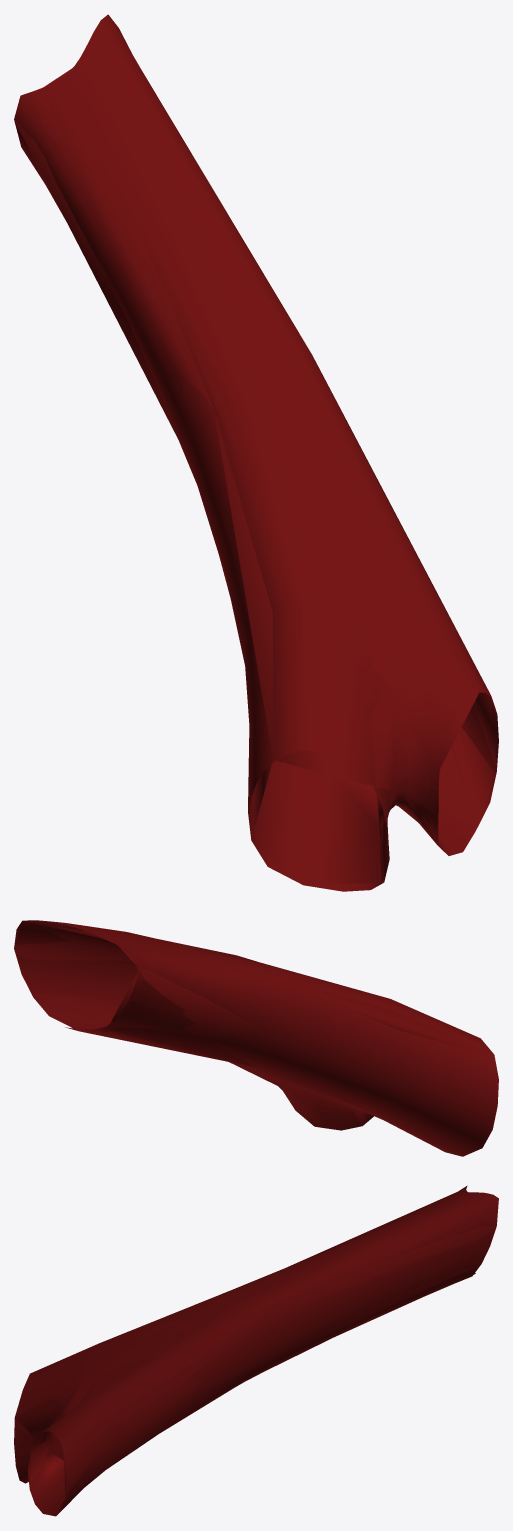
File: truncus bicaroticus.fbx
3 views of the same model, one above another, from view 1: azimuth 30°, elevation 25°; view 2: azimuth 150°, elevation 25°; view 3: azimuth 270°, elevation 25° (orthographic). The views are drawn at different scales.
Parts seen in each view (by area): view 1: truncus bicaroticus, truncus bicaroticus low, truncus bicaroticus high; view 2: truncus bicaroticus high, truncus bicaroticus, truncus bicaroticus low; view 3: truncus bicaroticus, truncus bicaroticus low, truncus bicaroticus high.
Boxes of the visible parts, box(x1,y1,x2,y2) form: truncus bicaroticus: box(14, 14, 498, 891); truncus bicaroticus low: box(14, 18, 496, 885); truncus bicaroticus high: box(19, 18, 498, 890); truncus bicaroticus high: box(15, 920, 495, 1150); truncus bicaroticus: box(14, 920, 498, 1156); truncus bicaroticus low: box(14, 921, 492, 1125); truncus bicaroticus: box(14, 1185, 498, 1516); truncus bicaroticus low: box(15, 1188, 498, 1516); truncus bicaroticus high: box(14, 1187, 497, 1515).
Bounding box in the file's own units: 1.21 × 2.39 × 3.22.
